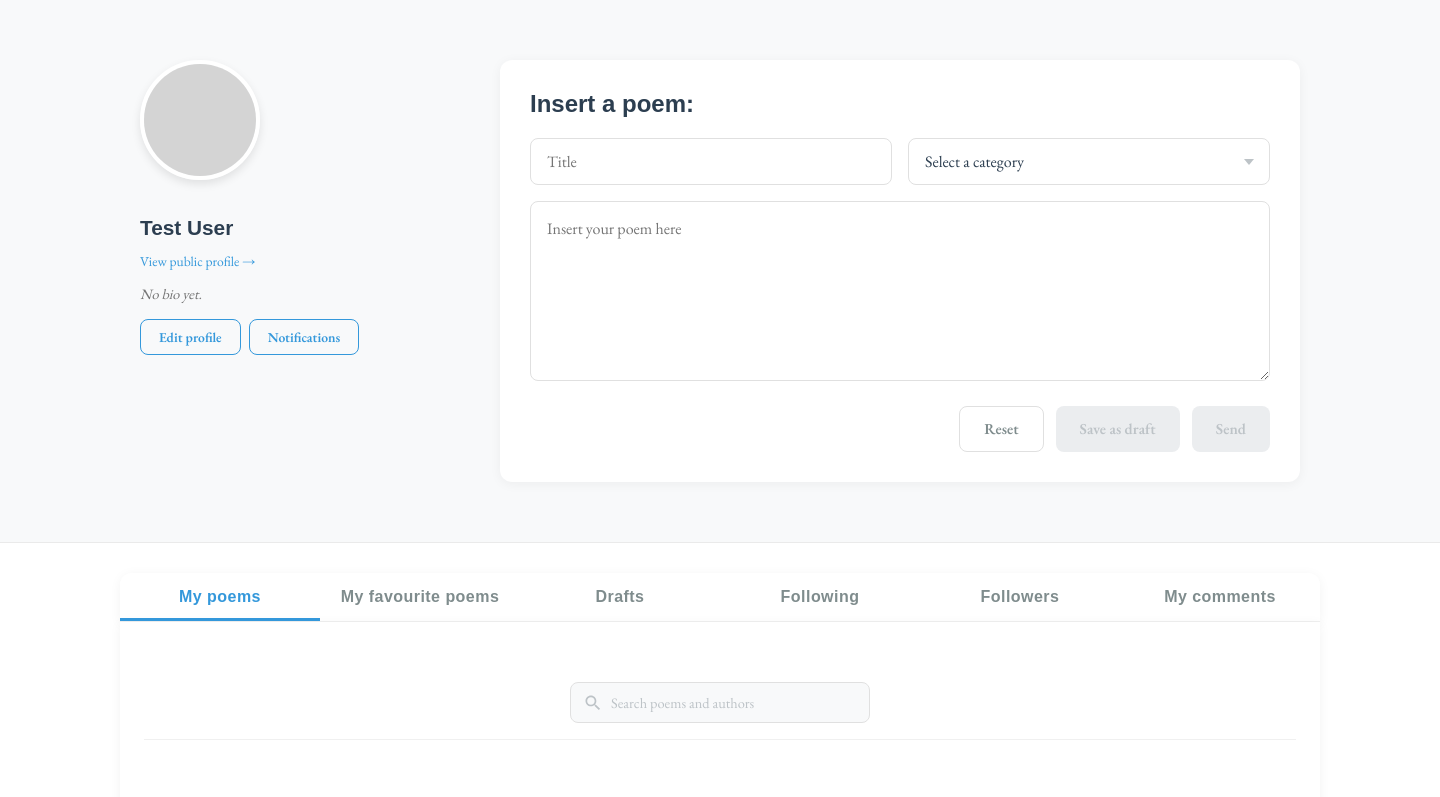
Test: Profile — order of the page › pressing it opens the panel, in the column and above the tabs
This screenshot has width=1440, height=797.
Click the button "Notifications" at coordinates (304, 337), box [249,319,359,355]
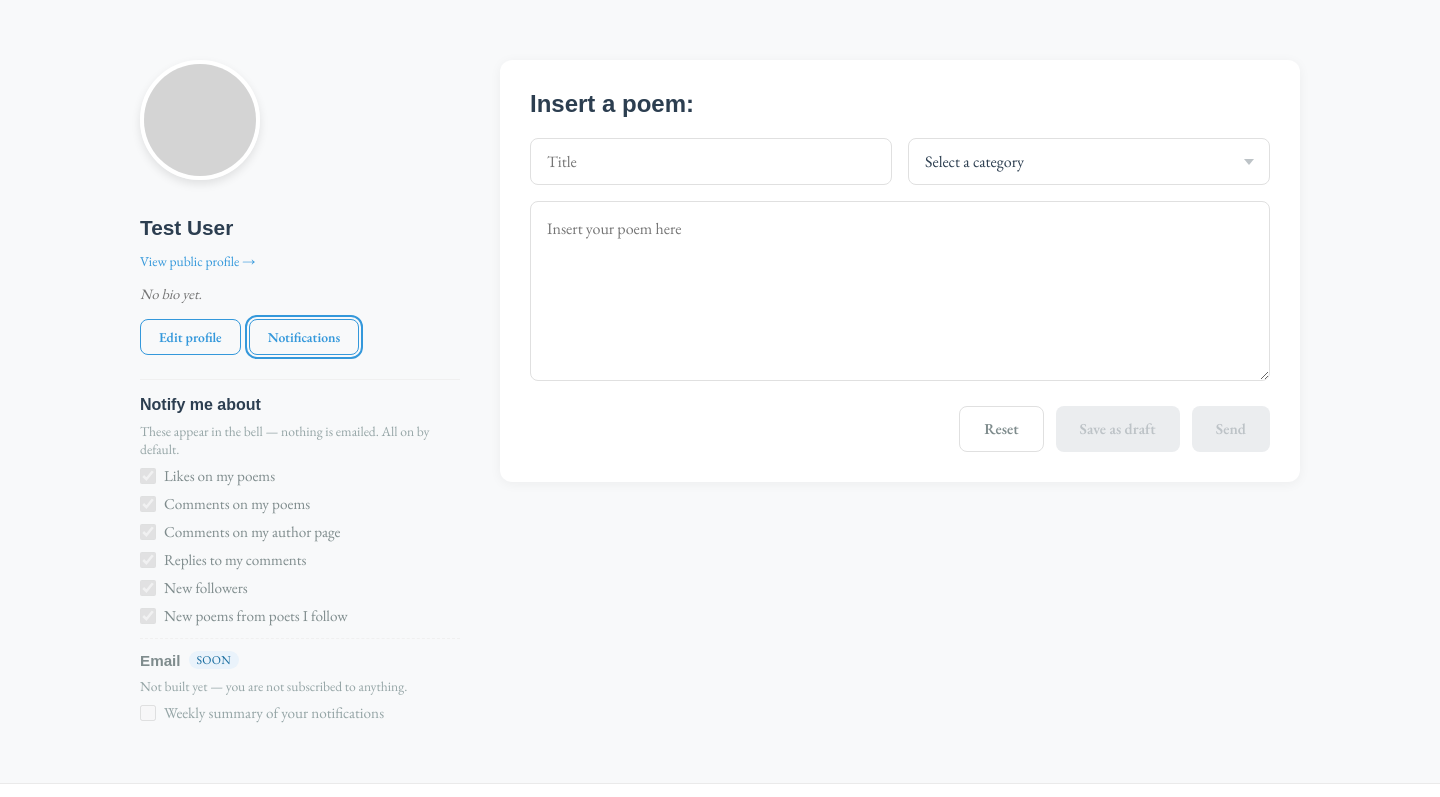
Expected: the element with class "notification-prefs" is shown, [140,379,460,723]
